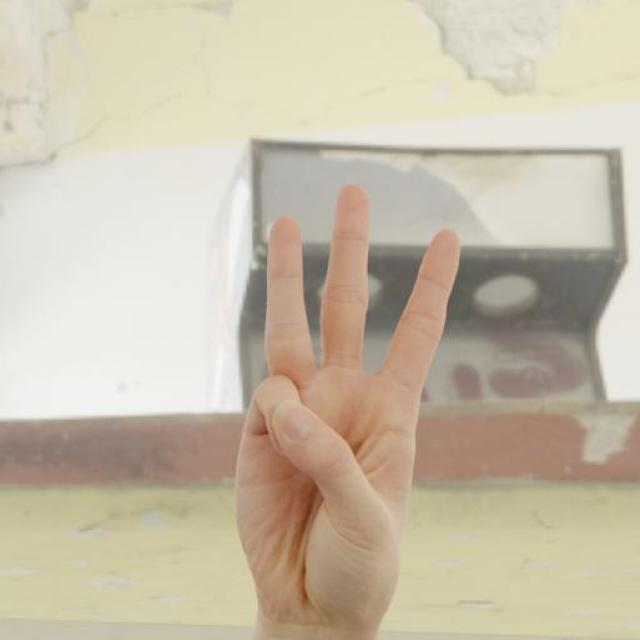W: (232, 180, 469, 628)
